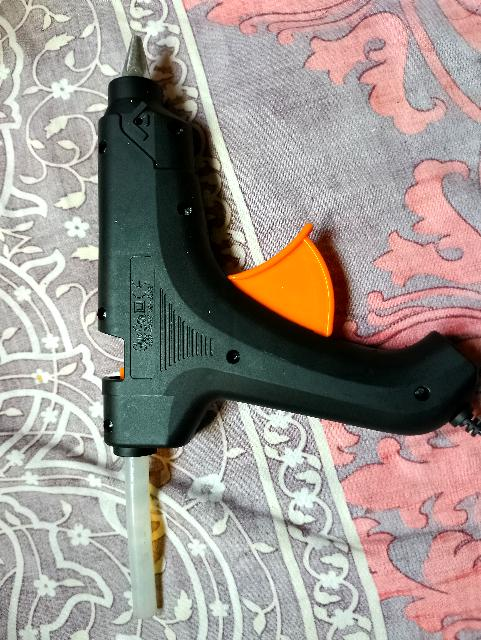hardplastic: (73, 57, 464, 492)
